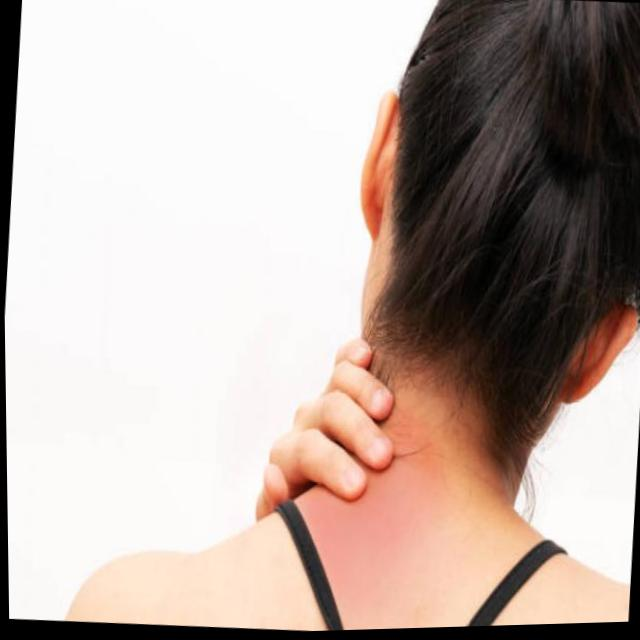no helmet: (302, 0, 640, 494)
